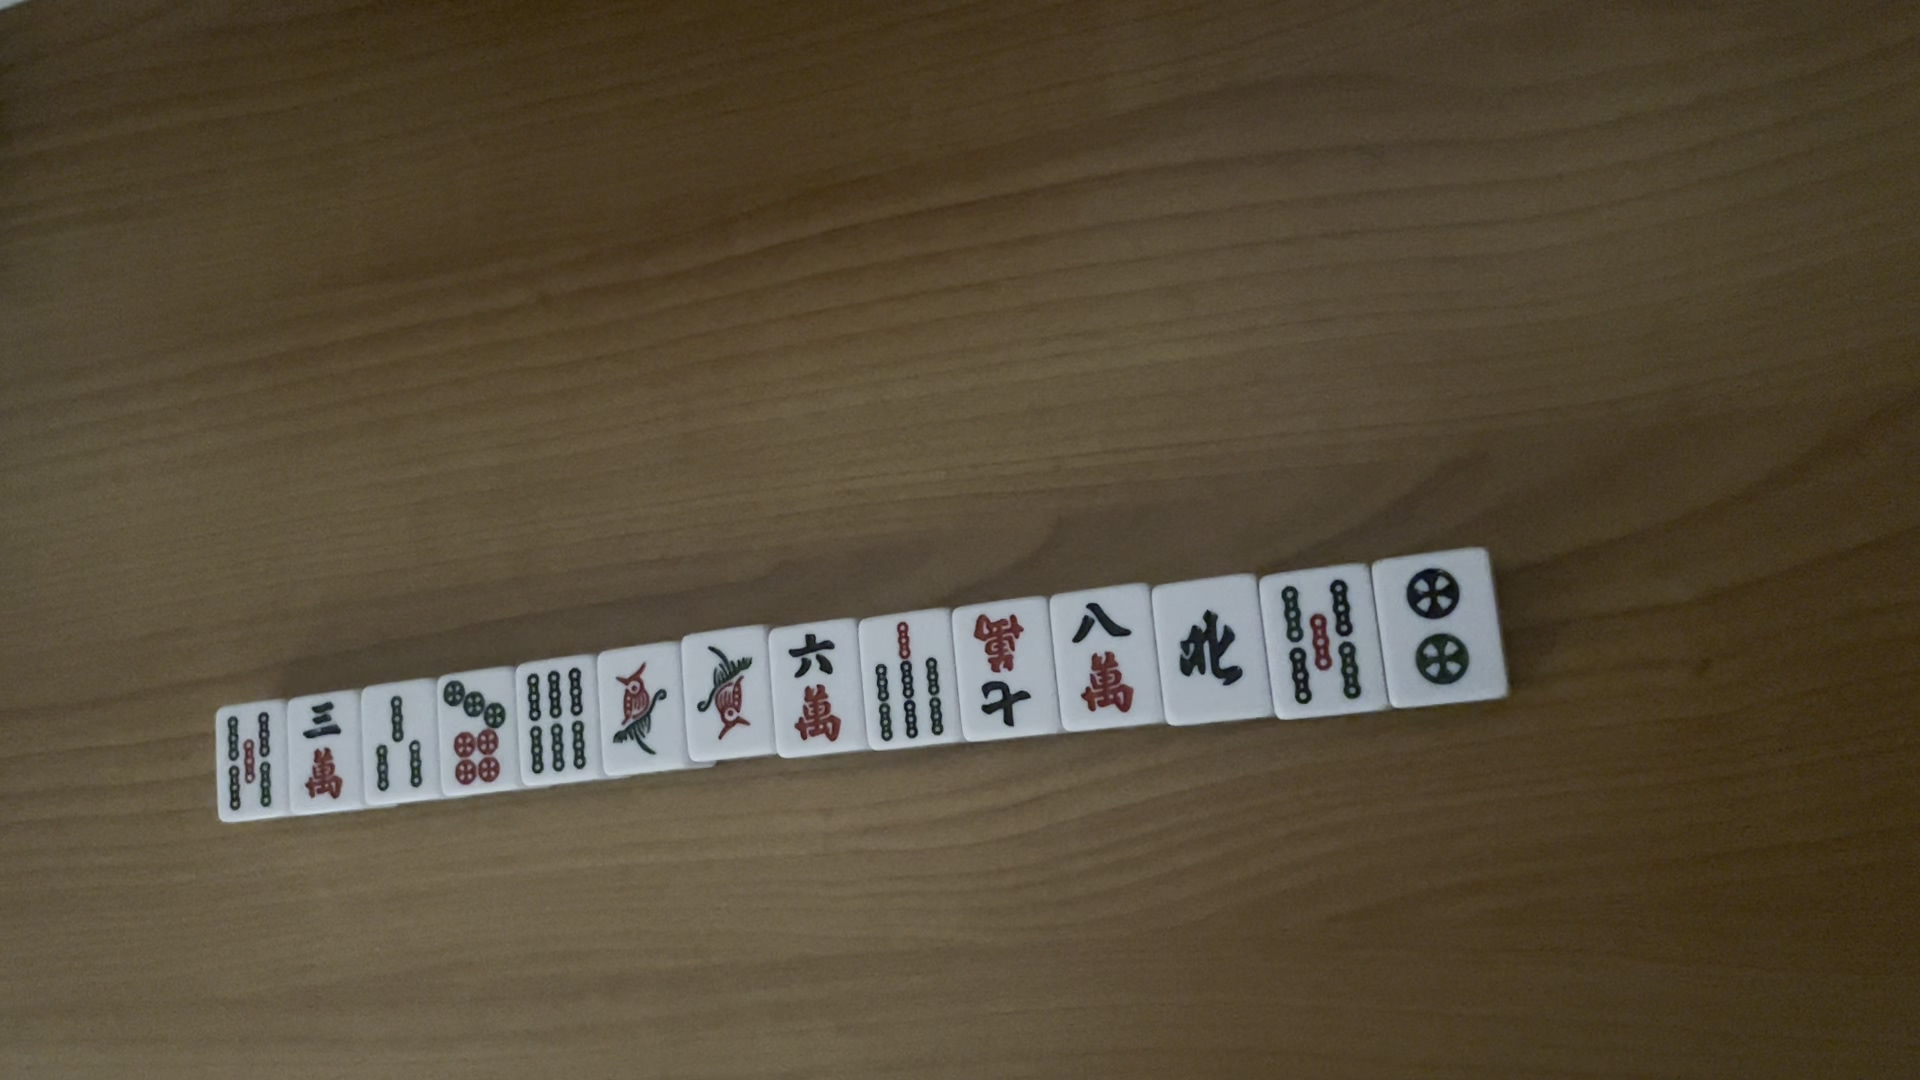b-1: (690, 645, 760, 742), (604, 659, 673, 757)
b-3: (371, 694, 426, 795)
b-5: (1276, 570, 1365, 713), (219, 711, 284, 812)
b-6: (520, 659, 589, 775)
b-7: (872, 618, 952, 744)
c-3: (302, 698, 351, 799)
c-6: (781, 632, 849, 746)
c-7: (965, 607, 1039, 733)
c-8: (1064, 599, 1141, 715)
d-2: (1389, 562, 1486, 688)
d-7: (440, 676, 509, 793)
honors-north: (1164, 597, 1254, 702)
